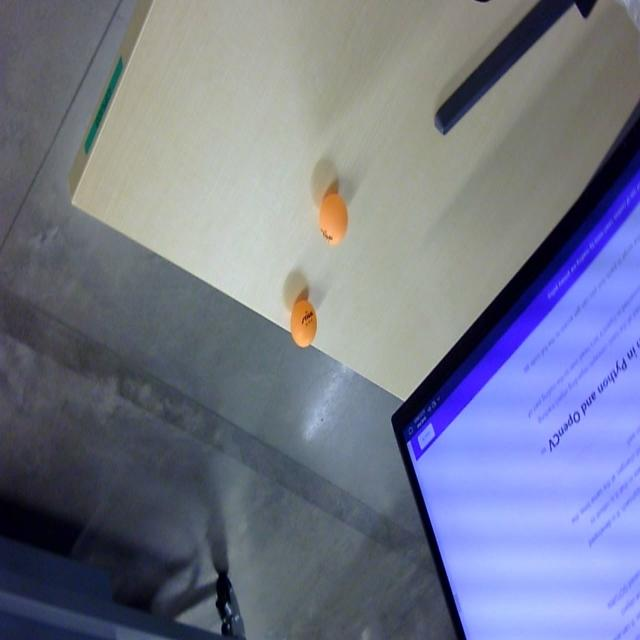ball: (320, 190, 348, 247), (290, 295, 317, 353)
